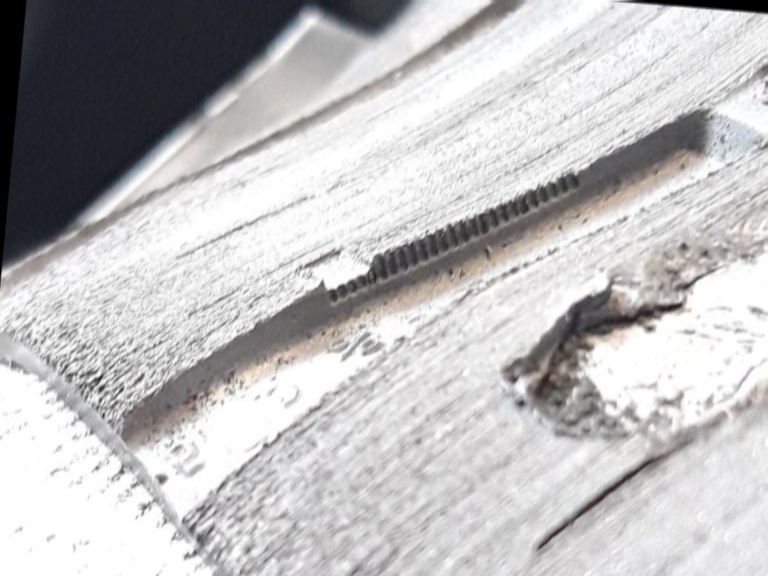temoin:0: (288, 210, 417, 324)
